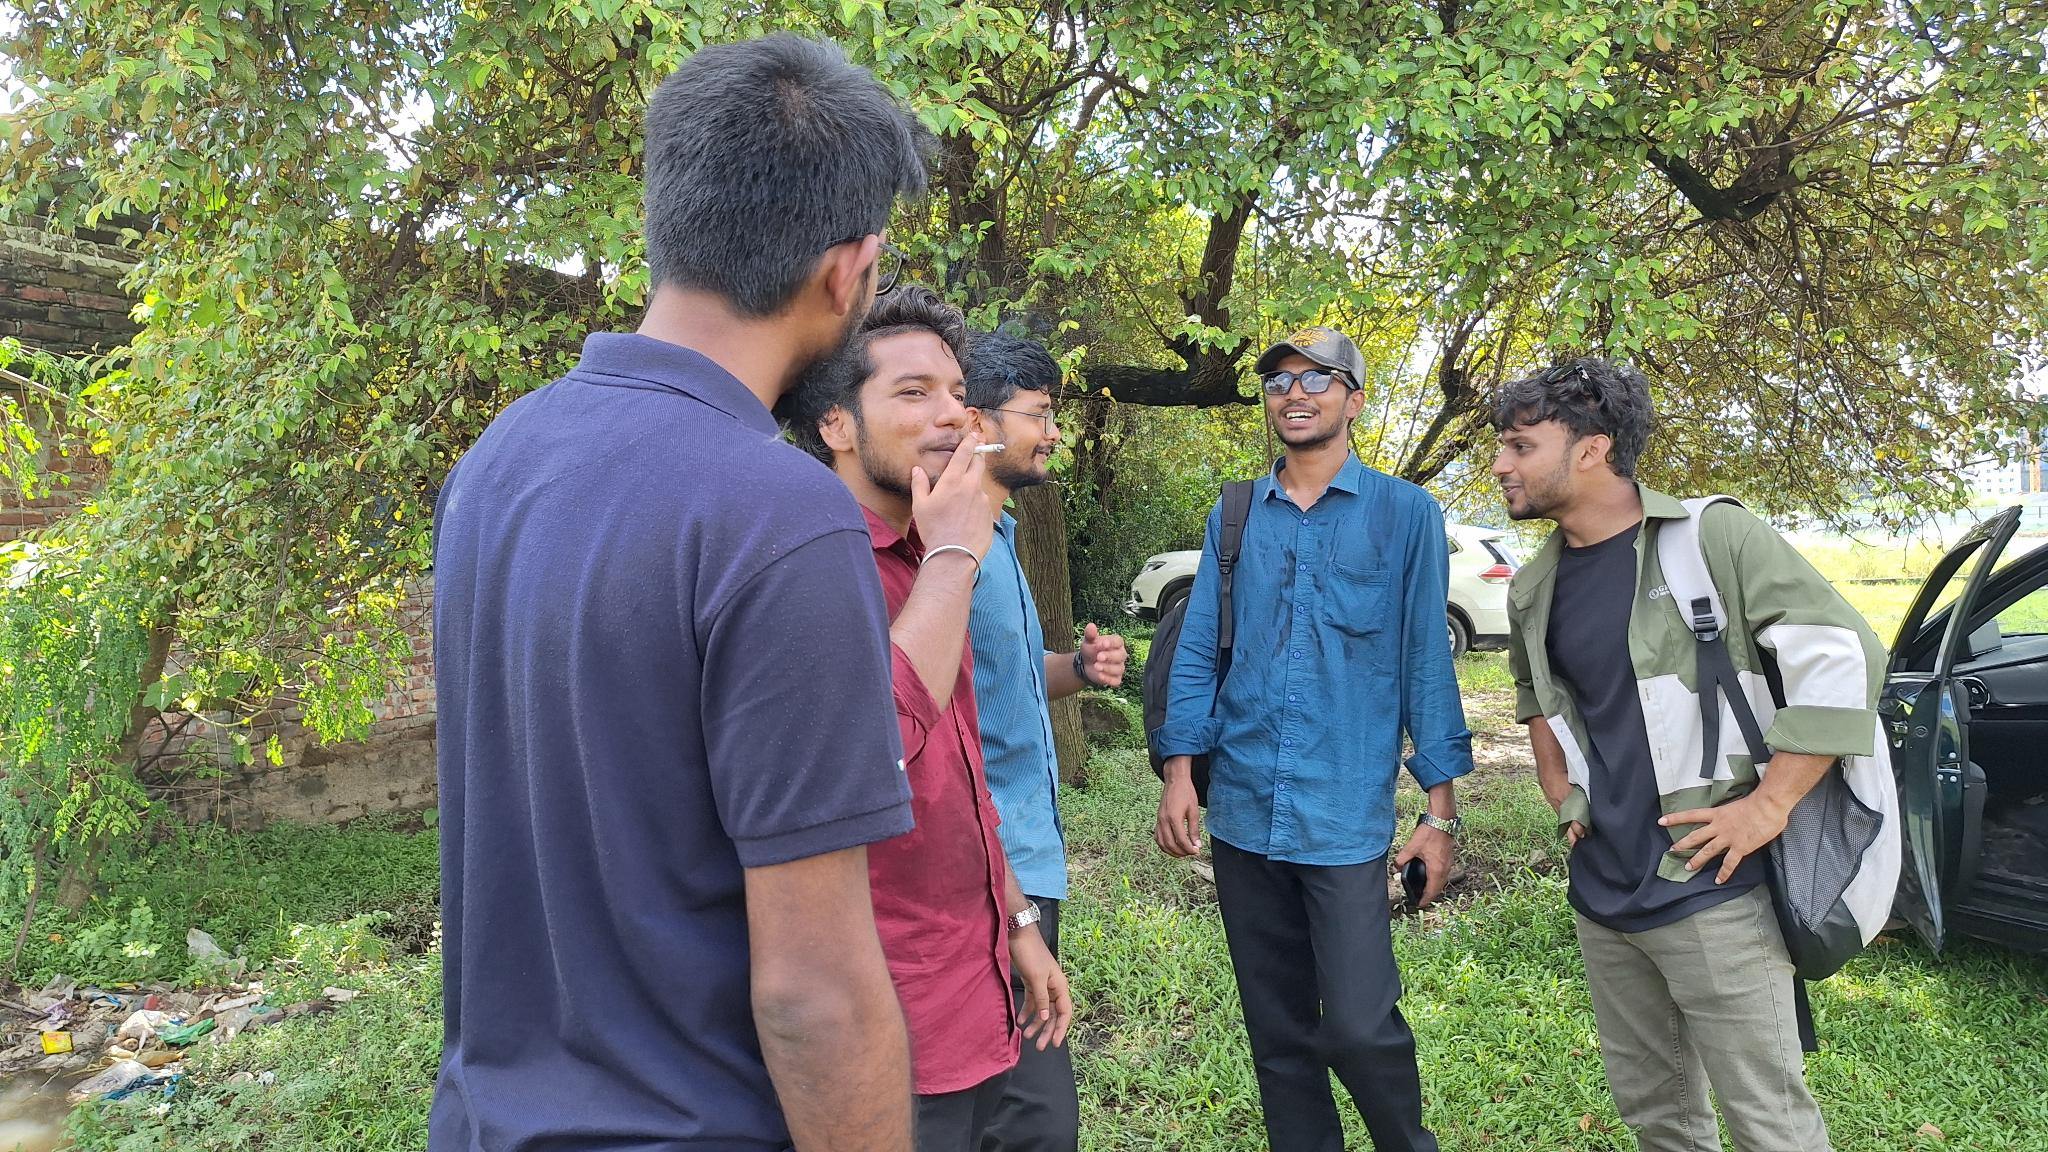cigarette: (949, 440, 1010, 461)
nonSmoker: (429, 27, 928, 1152), (1490, 359, 1899, 1152), (1144, 324, 1471, 1152), (971, 339, 1127, 1152)
smoker: (793, 291, 1072, 1152)
